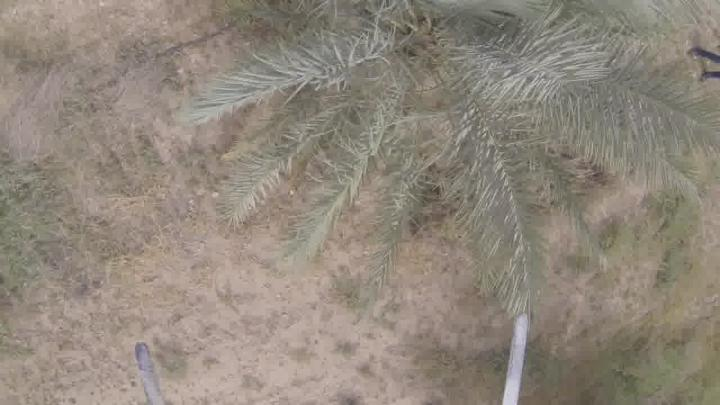Date-Palm-Crown: (302, 1, 584, 194)
